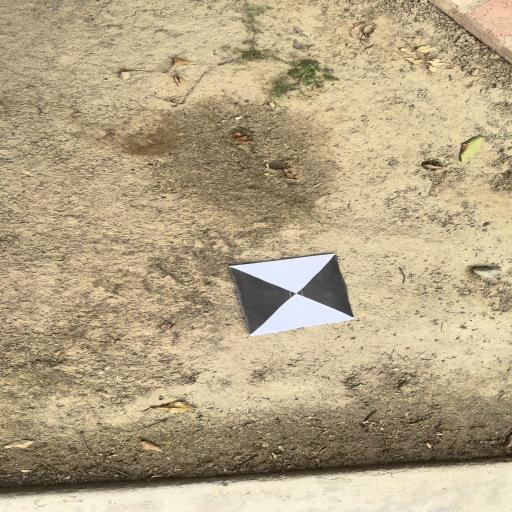target: (229, 254, 355, 336)
